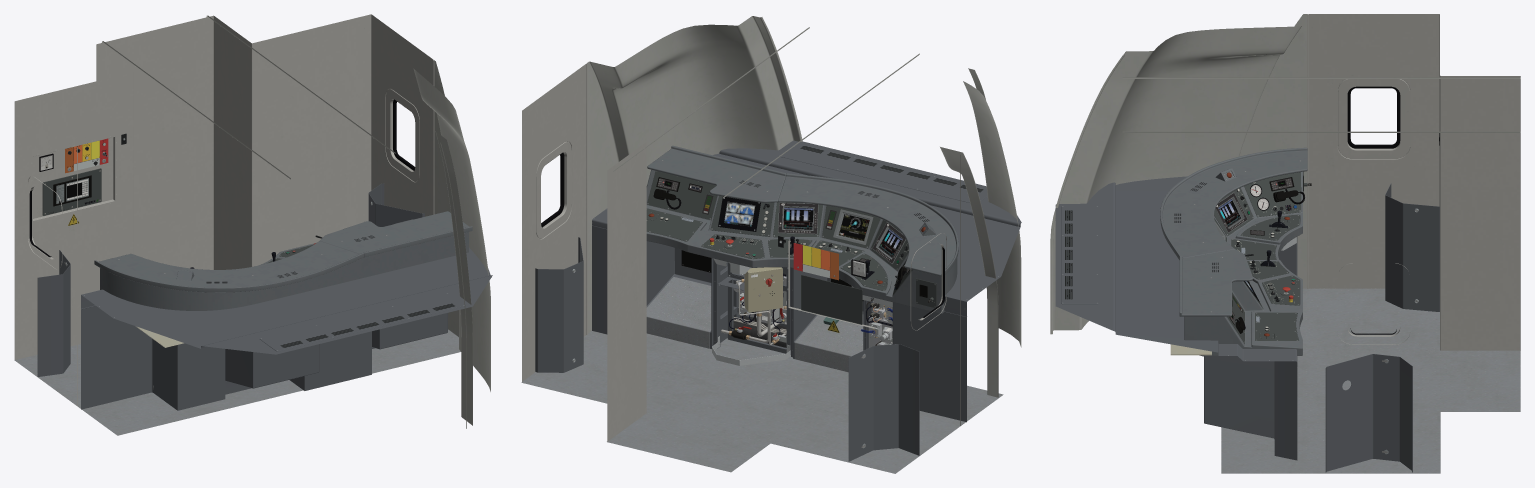
Rendered from es2g_cab.glb.
3 views of the same model, side by side, from view 1: azimuth 30°, elevation 25°; view 2: azimuth 150°, elevation 25°; view 3: azimuth 270°, elevation 25° (orthographic). The views are drawn at different scales.
Visible parts, largest first — view 1: Cabin, Console, Hatch_Right, Labels, Hatch_Left, Decals; view 2: Cabin, Console, Hatch_Right, UnderConsole, Hatch_Left, Labels, Controls, Decals; view 3: Cabin, Console, Hatch_Left, Hatch_Right, Decals, Controls, Labels.
Part boxes in pixels (box(x1,y1,x2,y2)): Cabin: box(14, 14, 490, 435); Console: box(39, 153, 492, 410); Hatch_Right: box(37, 250, 70, 376); Labels: box(56, 138, 108, 203); Hatch_Left: box(368, 183, 424, 226); Decals: box(31, 136, 464, 350); Cabin: box(521, 16, 1021, 473); Console: box(592, 140, 1021, 422); Hatch_Right: box(848, 344, 919, 461); UnderConsole: box(712, 258, 892, 365); Hatch_Left: box(535, 237, 583, 372); Labels: box(657, 178, 909, 343); Controls: box(648, 194, 933, 347); Decals: box(592, 146, 998, 357); Cabin: box(1050, 14, 1520, 473); Console: box(1055, 147, 1307, 460); Hatch_Left: box(1325, 354, 1412, 472); Hatch_Right: box(1385, 183, 1439, 311); Decals: box(1062, 160, 1301, 360); Controls: box(1226, 133, 1439, 336); Labels: box(1215, 178, 1292, 324).
Size of the model in its own units: 2.57 by 1.74 by 2.69.
Materials: 26 (20 with a texture image).
